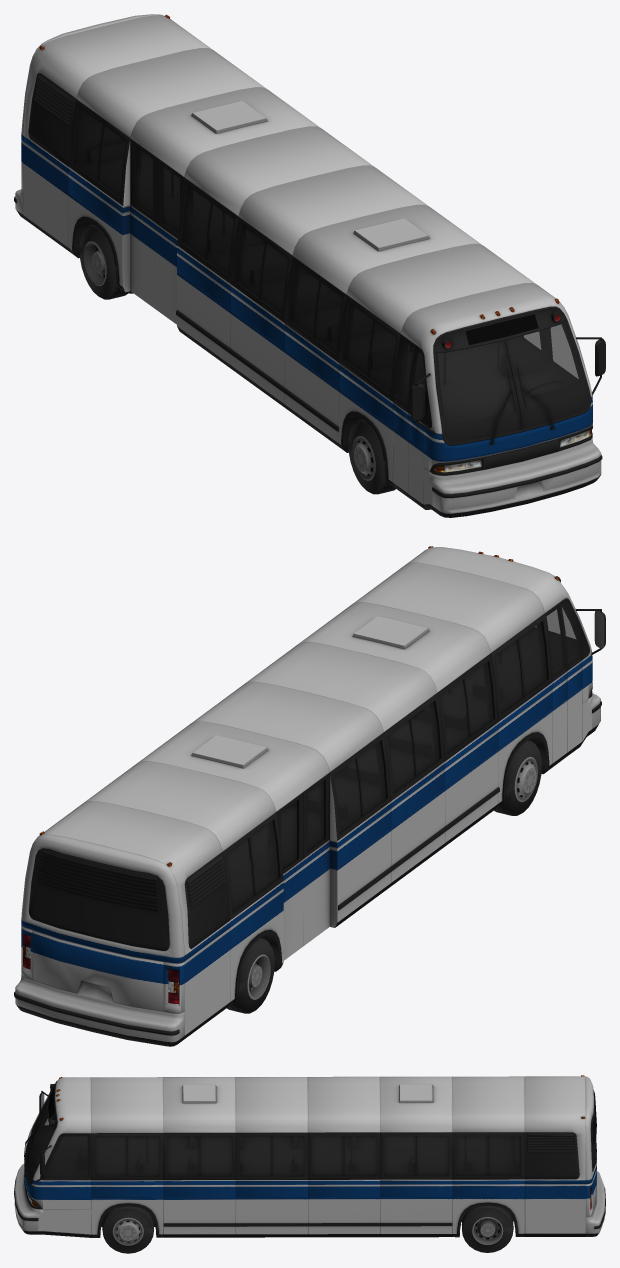
The model's file is veicolo_autobus.glb.
3 views of the same model, one above another, from view 1: azimuth 30°, elevation 25°; view 2: azimuth 150°, elevation 25°; view 3: azimuth 270°, elevation 25° (orthographic). The views are drawn at different scales.
Parts seen in each view (by area): view 1: sb_modello; view 2: sb_modello; view 3: sb_modello.
Boxes of the visible parts, x1,y1,x2,y2 form: sb_modello: [14, 14, 605, 517]; sb_modello: [14, 546, 605, 1046]; sb_modello: [14, 1075, 605, 1253].
Size of the model in its own units: 2.54 by 2.52 by 9.95.
4 materials, 3 textured.
